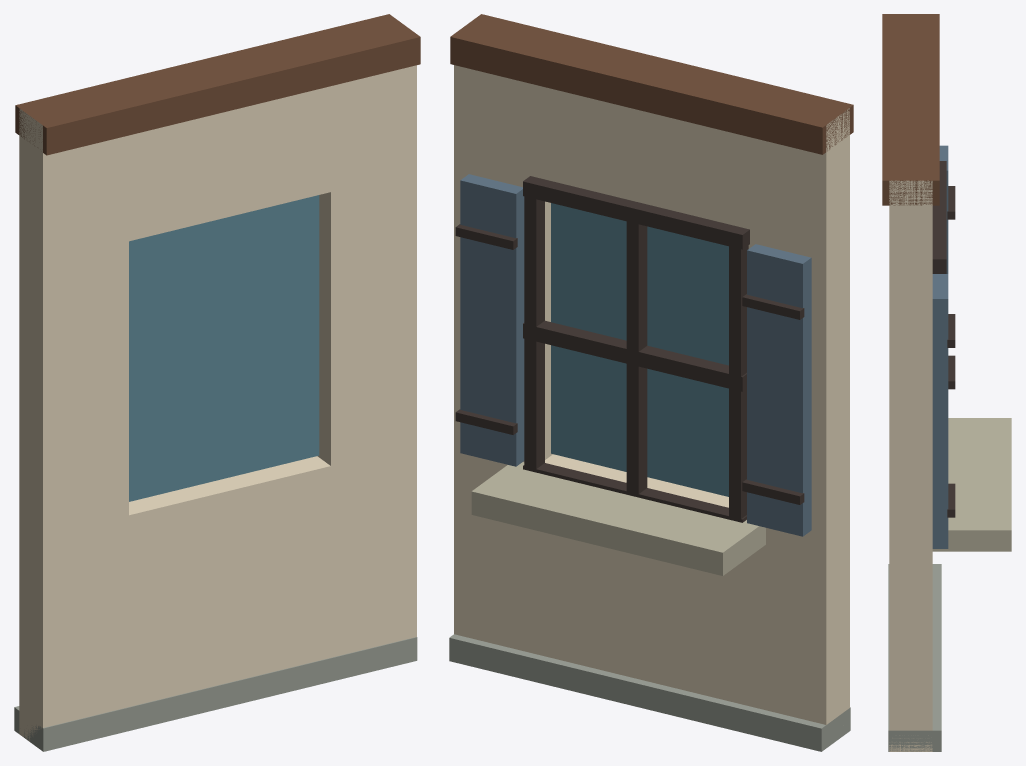
Rendered from wall_window_2m.glb.
The picture shows the model from 3 angles, left to right: view 1: azimuth 30°, elevation 25°; view 2: azimuth 150°, elevation 25°; view 3: azimuth 270°, elevation 25°; orthographic projection. The views are drawn at different scales.
Parts seen in each view (by area): view 1: wall_window_2m; view 2: wall_window_2m; view 3: wall_window_2m.
Part boxes in pixels (x1,y1,x2,y2): wall_window_2m: (14,14,420,751); wall_window_2m: (449,14,853,751); wall_window_2m: (882,14,1011,751).
Size of the model in its own units: 2 by 3.2 by 0.655.
